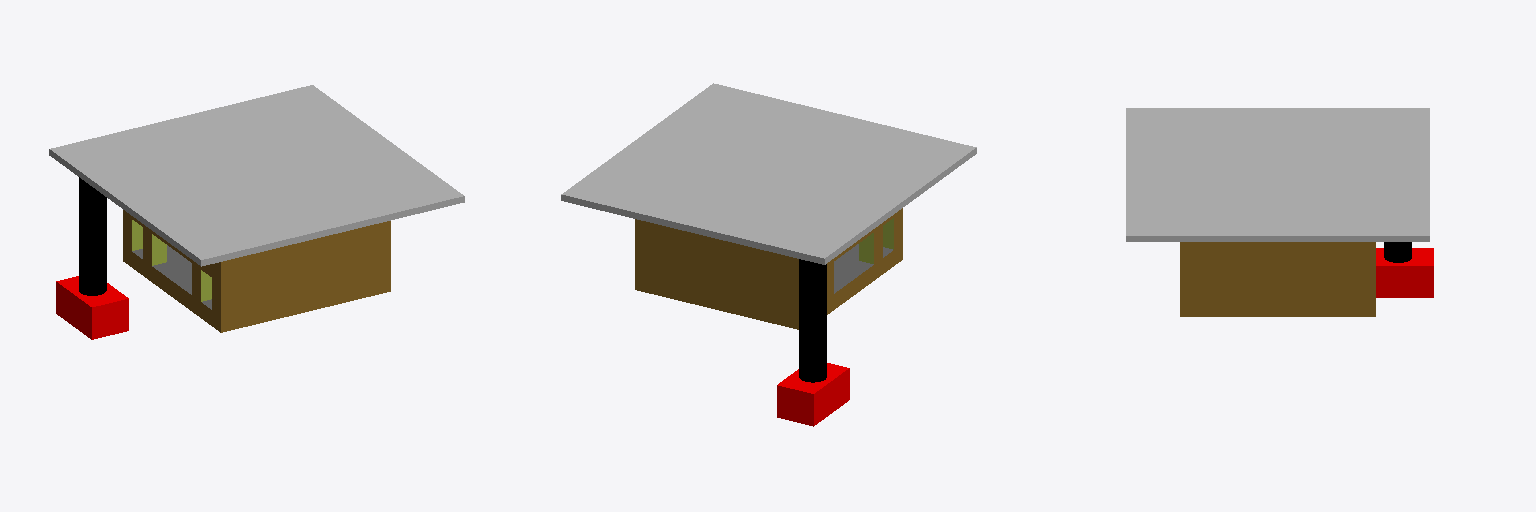
The model's file is PartStore.obj.
The picture shows the model from 3 angles: view 1: azimuth 30°, elevation 25°; view 2: azimuth 150°, elevation 25°; view 3: azimuth 270°, elevation 25°; orthographic projection.
Visible parts, largest first — view 1: Solid1; view 2: Solid1; view 3: Solid1.
Part boxes in pixels (left/top/right/bottom): Solid1: left=49, top=85, right=464, bottom=339; Solid1: left=561, top=83, right=976, bottom=426; Solid1: left=1126, top=108, right=1433, bottom=316.
Bounding box in the file's own units: 85 × 52 × 86.16.